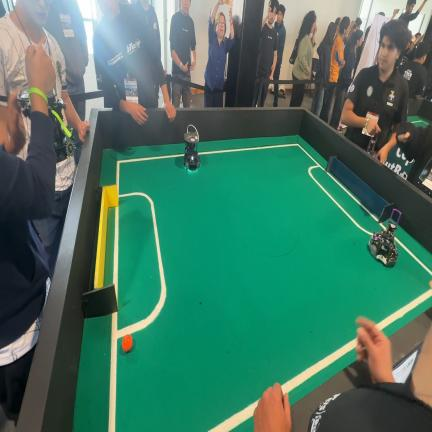robot: (369, 209, 401, 267)
